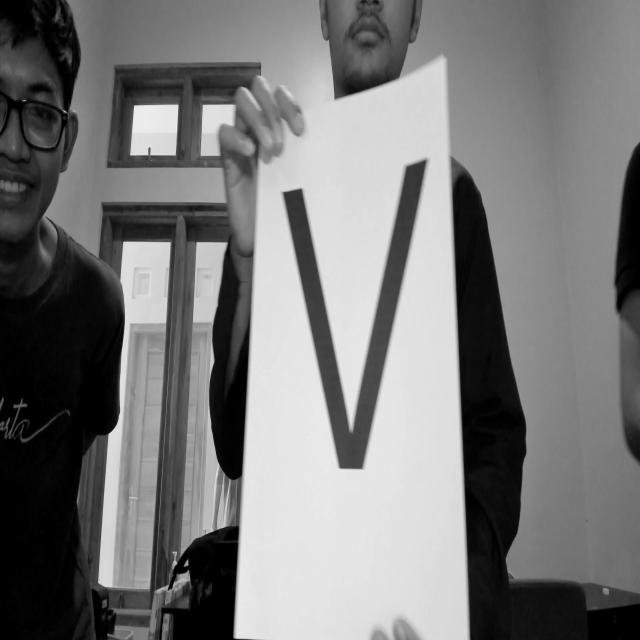v: (267, 144, 465, 484)
